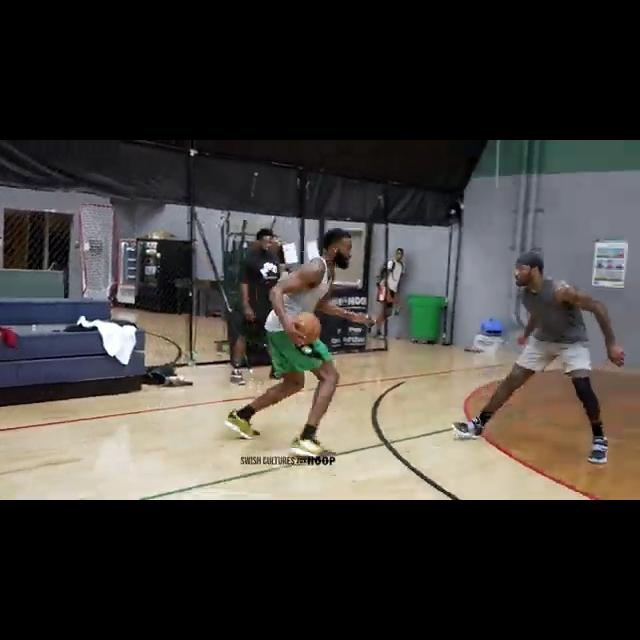basketball: (291, 313, 321, 343)
